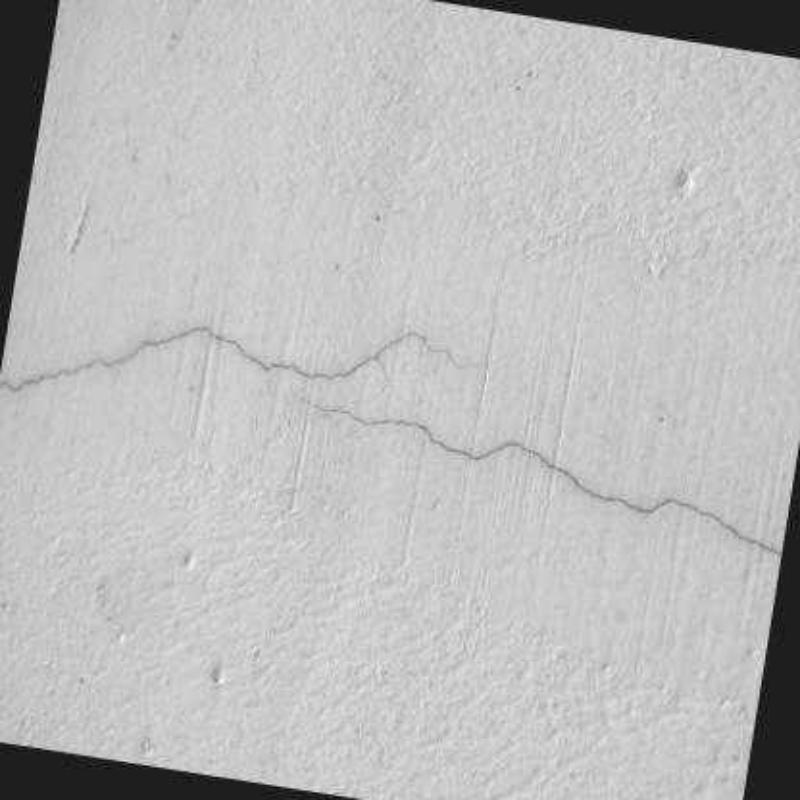crack: (303, 398, 781, 557), (0, 325, 473, 391)
